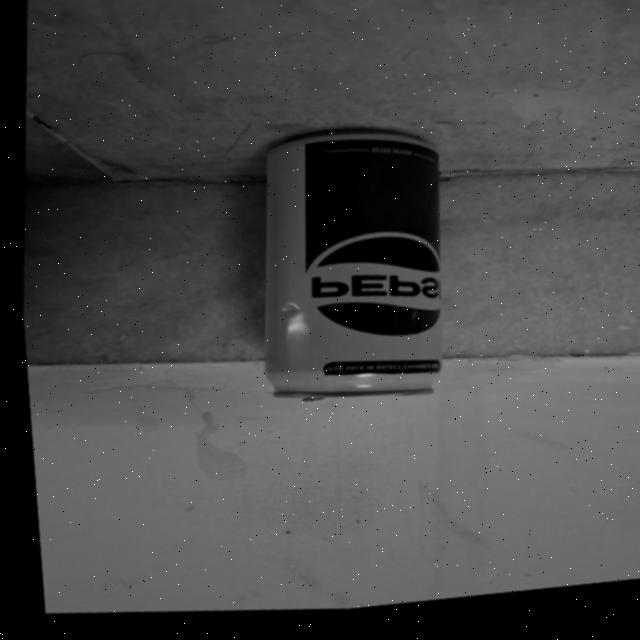Pepsi Retro: (229, 119, 470, 441)
